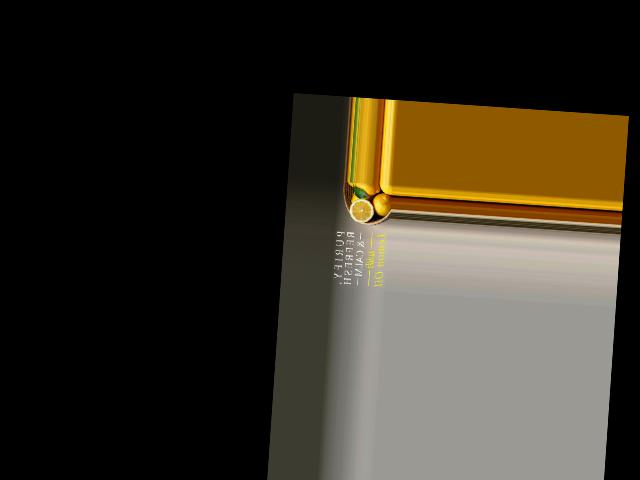lemon: (371, 192, 392, 215)
